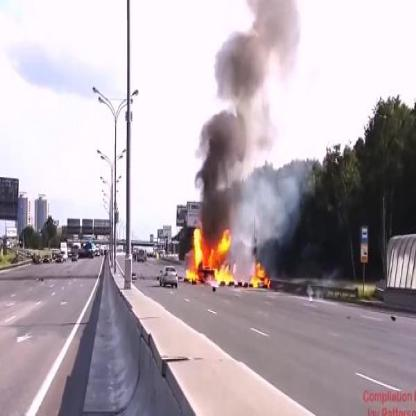fire: (183, 226, 239, 288), (249, 260, 272, 293)
